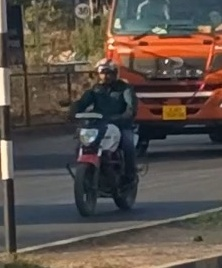BikeWithRider: (58, 56, 146, 218)
Helmet: (92, 56, 120, 90)
